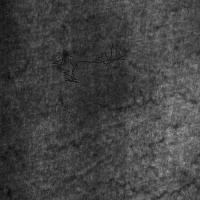crazing: (62, 97, 175, 153), (32, 27, 151, 76), (62, 165, 198, 198), (52, 44, 125, 82)
